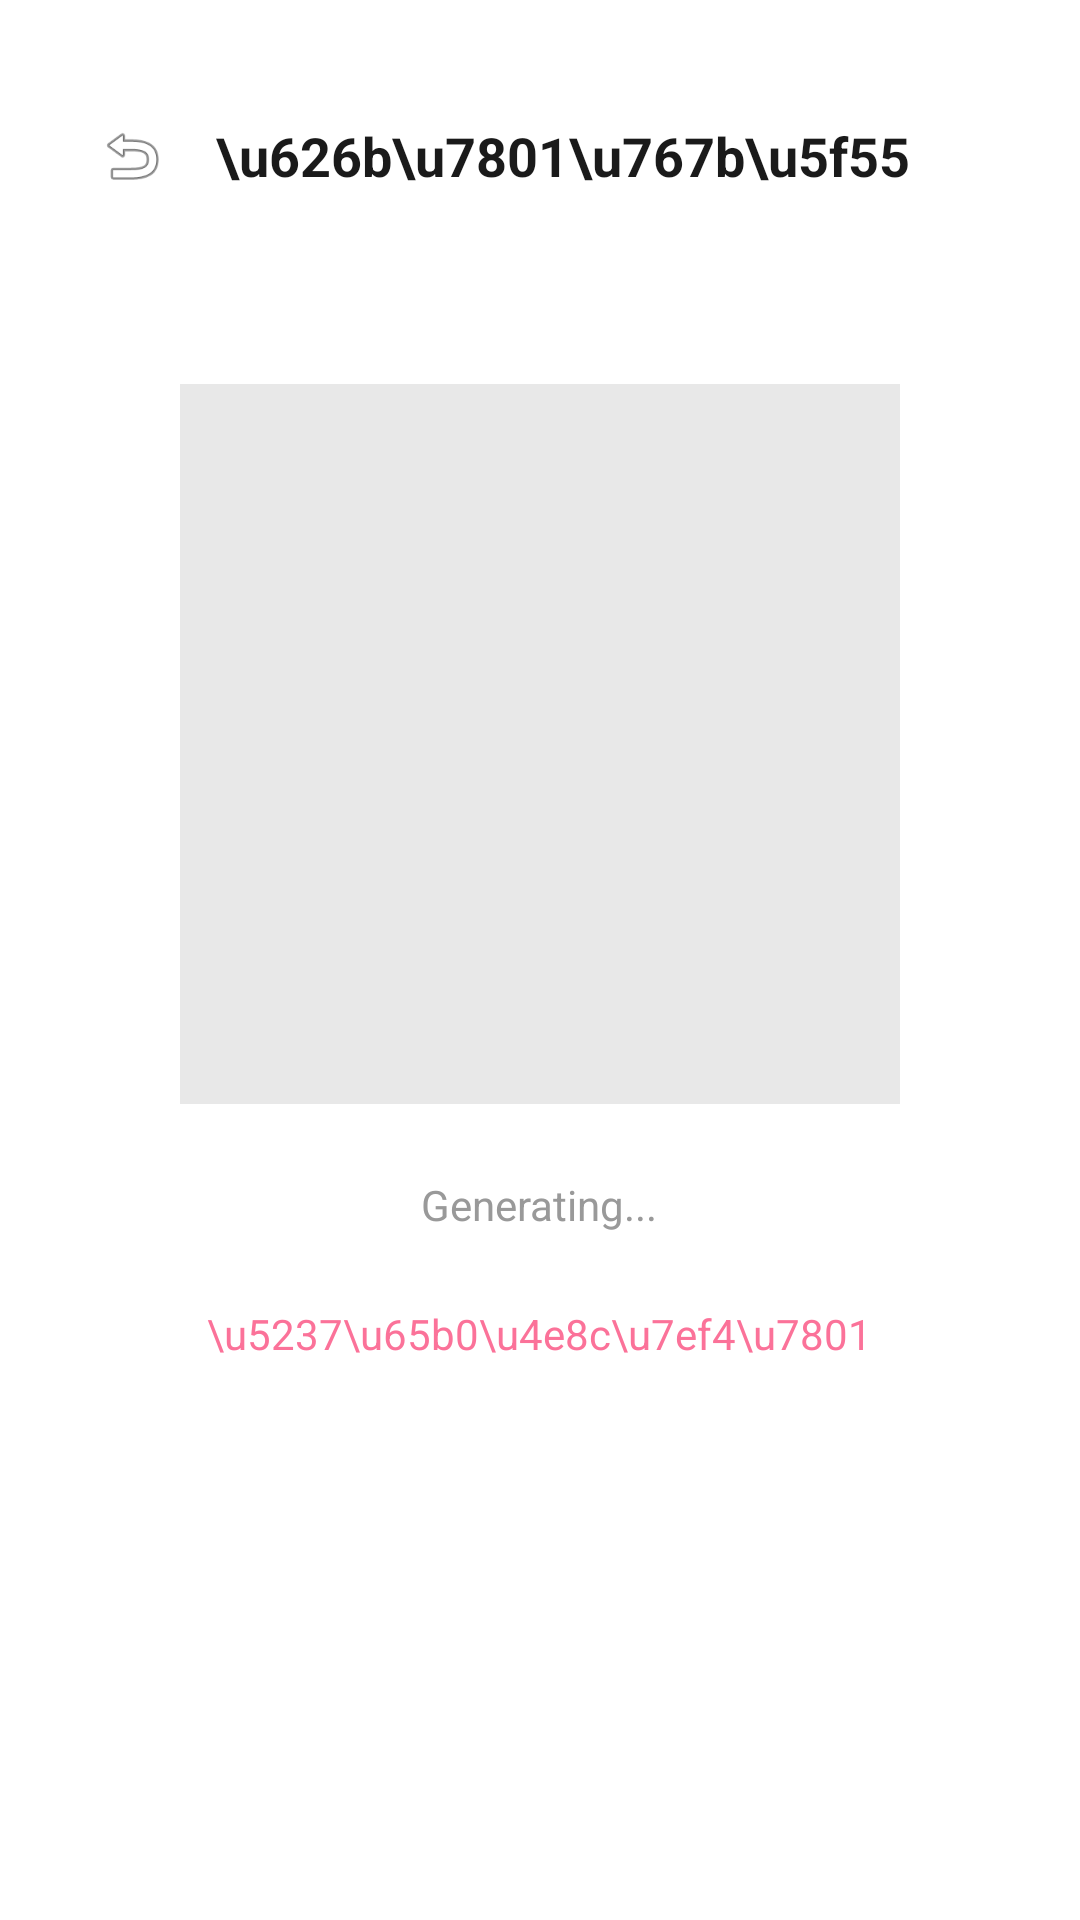

Screen size 1080×1920. Icon name, then its center in pixels as (x,y):
revert: (133,156)
